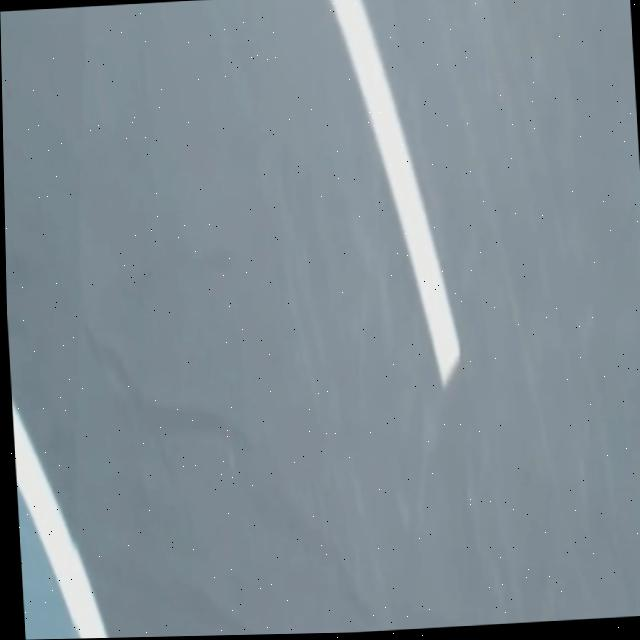center: (329, 0, 458, 387)
left: (11, 399, 106, 639)
